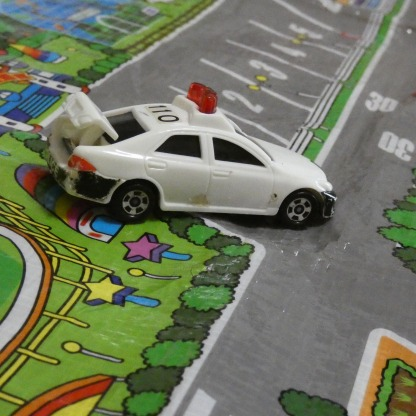car: (52, 81, 337, 226)
